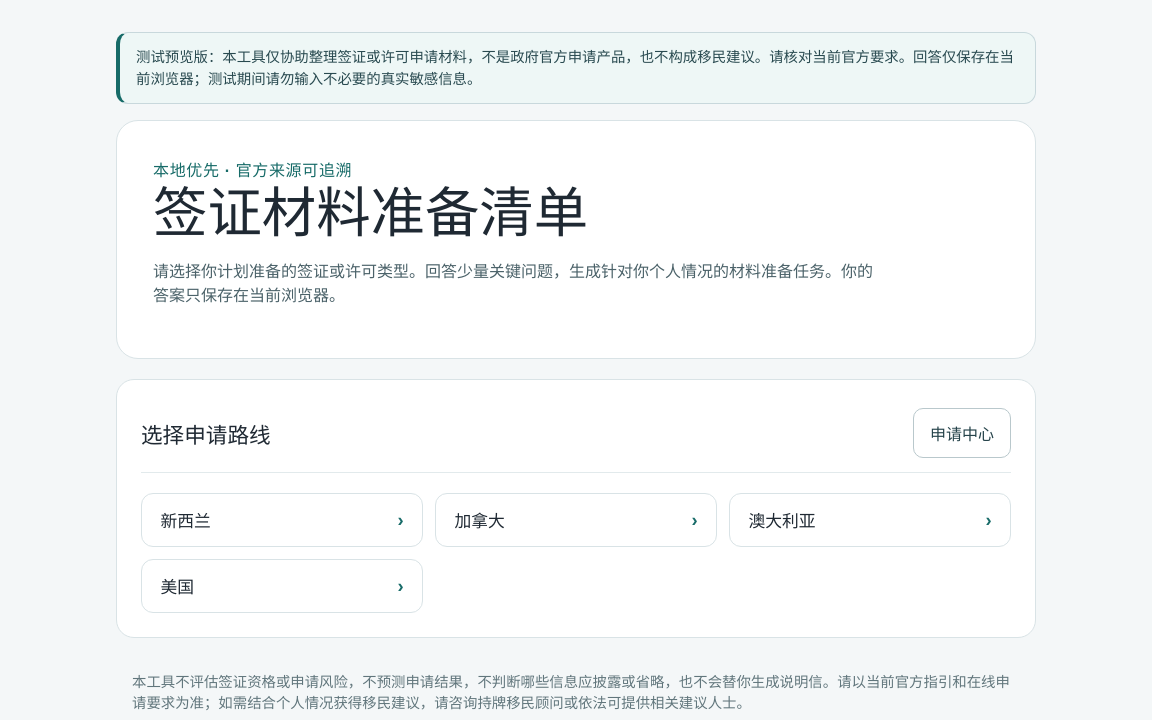
Slice U1.2 — Workspace Re-entry and Application Disambiguation › A3: Route selection screen with existing workspace data displays "‹ 申请中心" button and navigates to Hub
The width and height of the screenshot is (1152, 720).
Expected: the heading "选择申请路线" is shown, [141,418,271,449]
Click the button "申请中心" at {"x": 962, "y": 433}, box [913,408,1011,458]
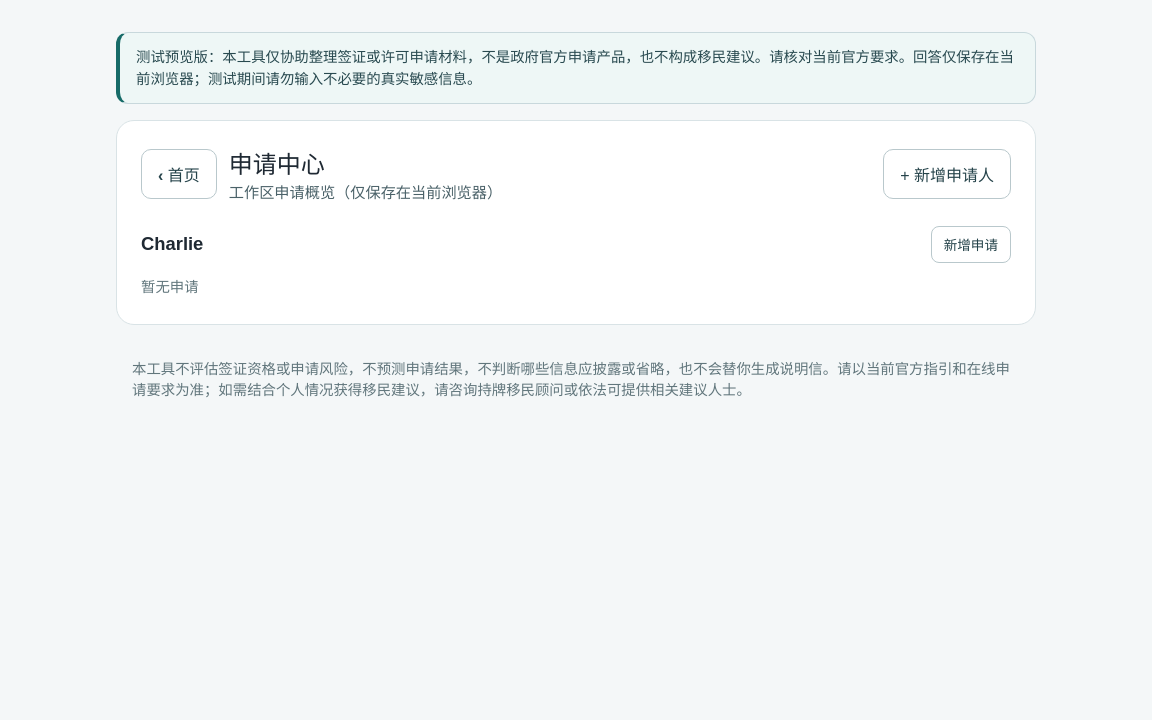
Expected: the heading "申请中心" is shown, [229,151,325,178]
